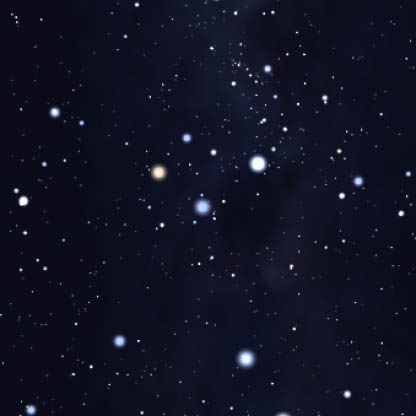Southern Cross: (241, 150, 272, 179), (191, 192, 214, 219), (145, 160, 169, 182), (180, 127, 199, 147)
